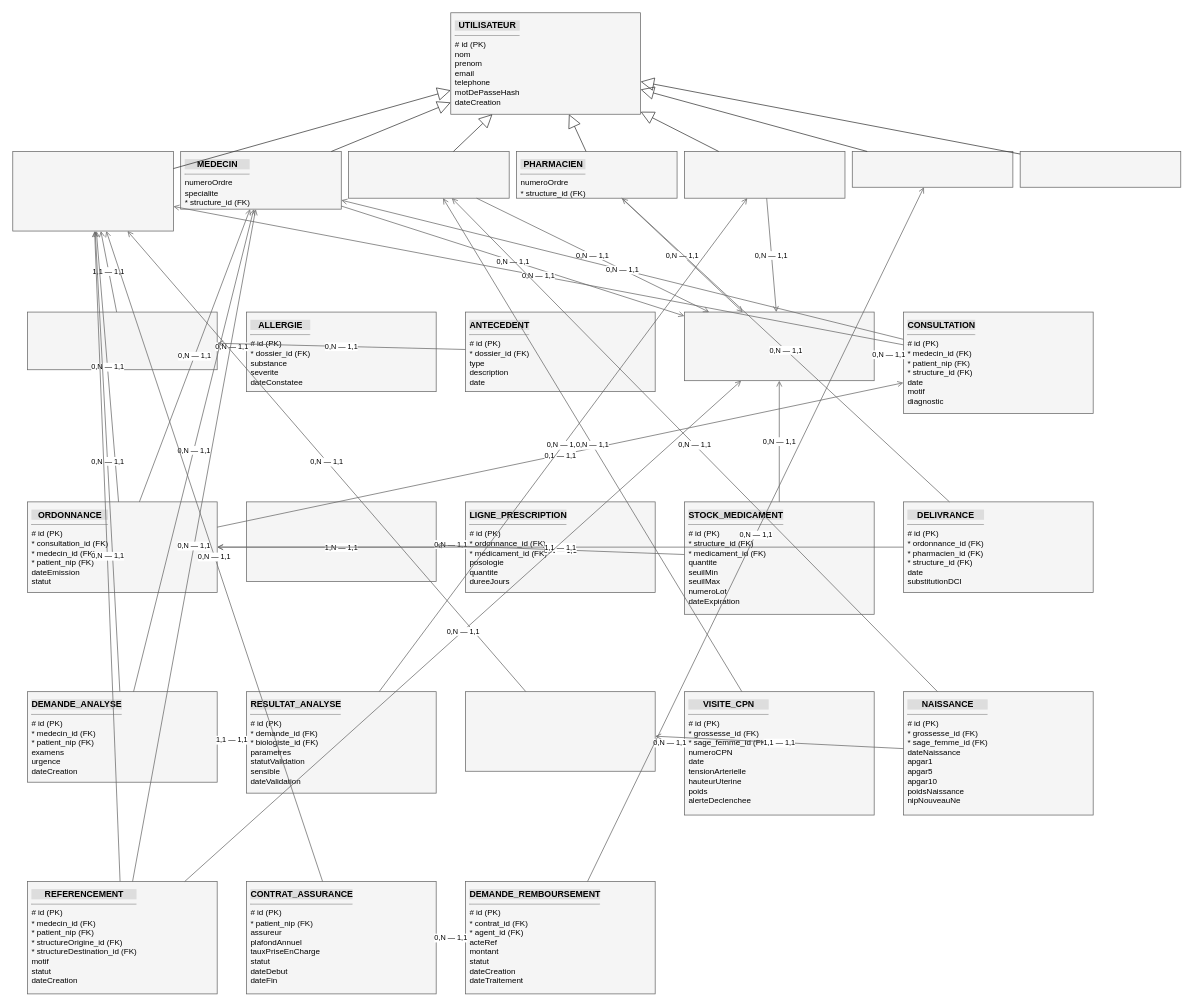
This 1194x1007 diagram has some shape labels left out. The centre of each missing label's shape, as x and y in pixels:
"ADMINISTRATEUR niveauAcces" goes at (1100,169).
"AGENT_ASSURANCE assureur" goes at (932,169).
"BIOLOGISTE numeroOrdre * structure_id (FK)" goes at (764,174).
"DOSSIER_MEDICAL # id (PK) * patient_nip (FK) dateCreation" goes at (122,340).
"GROSSESSE # id (PK) * patiente_nip (FK) dateDebut dpa statutRisque" goes at (560,731).
"MEDICAMENT # id (PK) nom dci forme prix" goes at (341,541).
"PATIENT # nip (PK) dateNaissance sexe groupeSanguin adresse" goes at (92,191).
"SAGE_FEMME numeroOrdre * structure_id (FK)" goes at (428,174).
"STRUCTURE # id (PK) nom type localisation" goes at (779,346).
